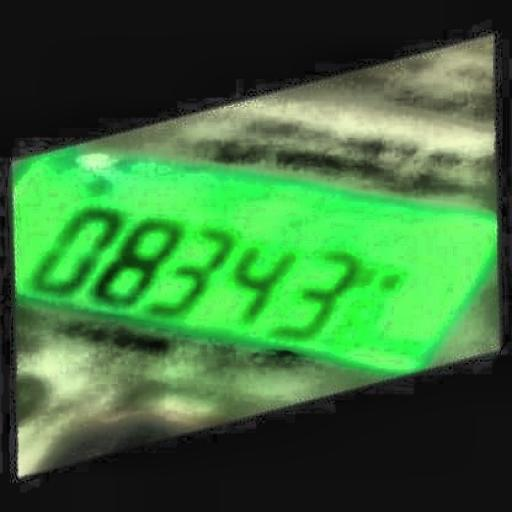DISPLAY_REGION: (0, 130, 511, 394)
SERIAL_REGION: (26, 195, 399, 370)
